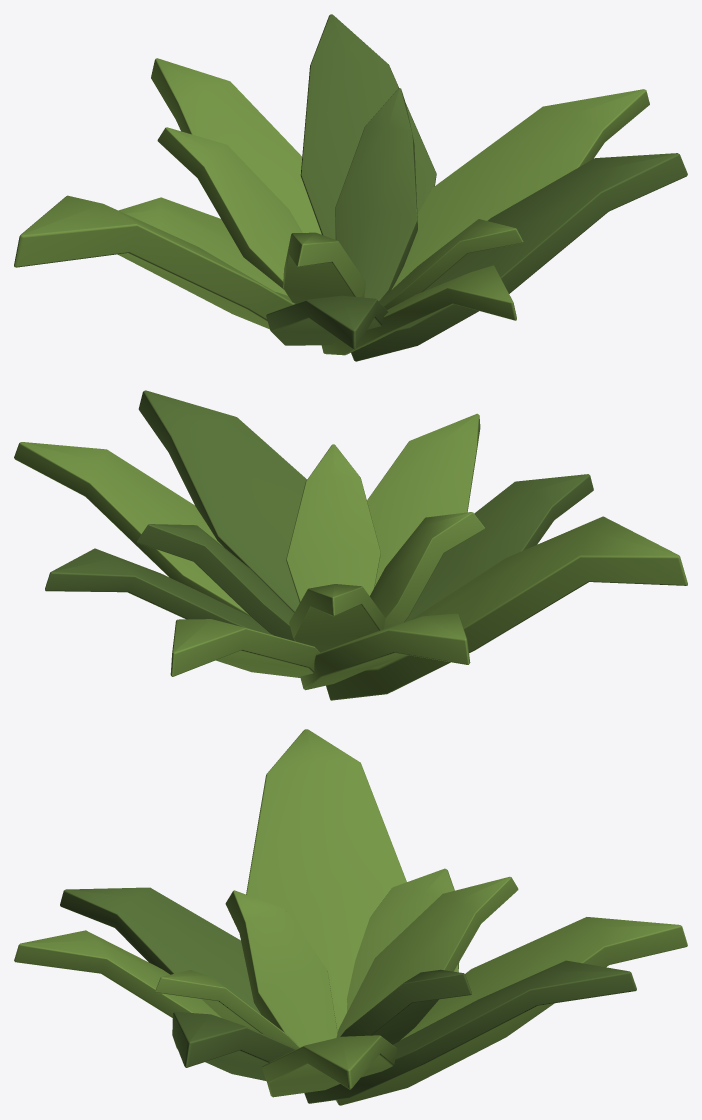
The model's file is grass_medium_tuft.glb.
The picture shows the model from 3 angles, top to bottom: view 1: azimuth 30°, elevation 25°; view 2: azimuth 150°, elevation 25°; view 3: azimuth 270°, elevation 25°; orthographic projection.
Parts seen in each view (by area): view 1: grass_medium_tuft; view 2: grass_medium_tuft; view 3: grass_medium_tuft.
Boxes of the visible parts, bbox=[...] form: grass_medium_tuft: bbox=[14, 14, 687, 361]; grass_medium_tuft: bbox=[14, 390, 687, 700]; grass_medium_tuft: bbox=[14, 729, 687, 1105].
Bounding box in the file's own units: 0.395 × 0.1193 × 0.3511.
